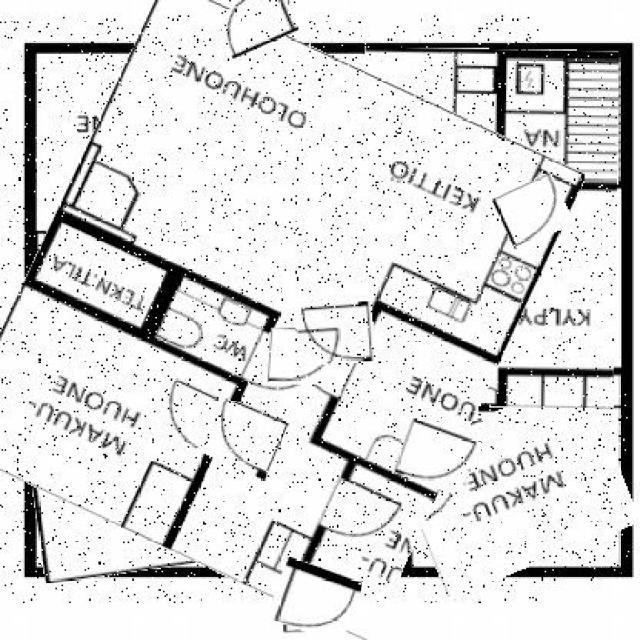door: (271, 563, 358, 637), (202, 403, 288, 477), (397, 423, 477, 491), (295, 302, 374, 364), (498, 179, 570, 243), (216, 0, 295, 52), (270, 329, 338, 385)
zone: (0, 15, 542, 603), (360, 49, 617, 406), (28, 380, 277, 577), (402, 394, 629, 580), (40, 309, 160, 385), (171, 311, 272, 386)
